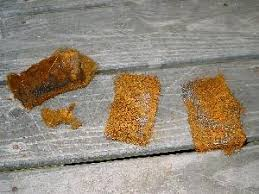rust: (183, 85, 242, 145), (113, 75, 154, 142), (27, 61, 62, 106)
